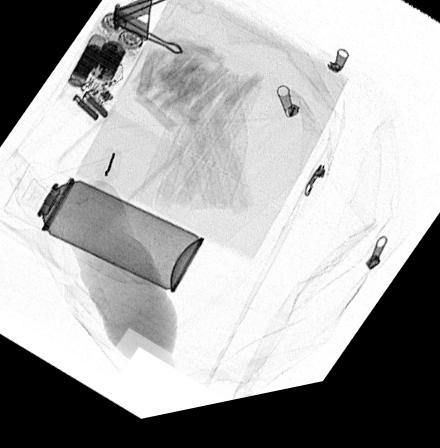Sprayer: (2, 159, 204, 301)
